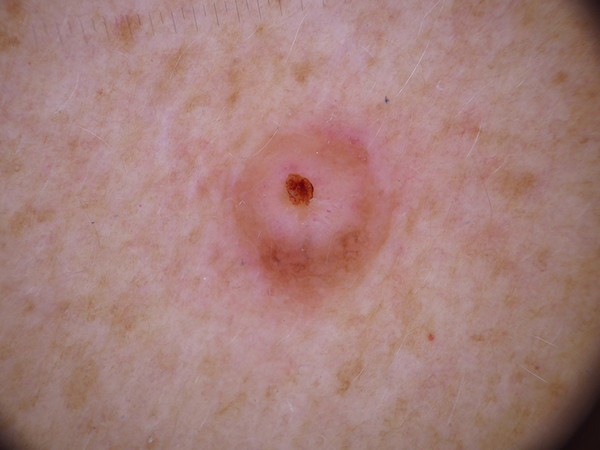Detected Lesion: (229, 114, 381, 280)
